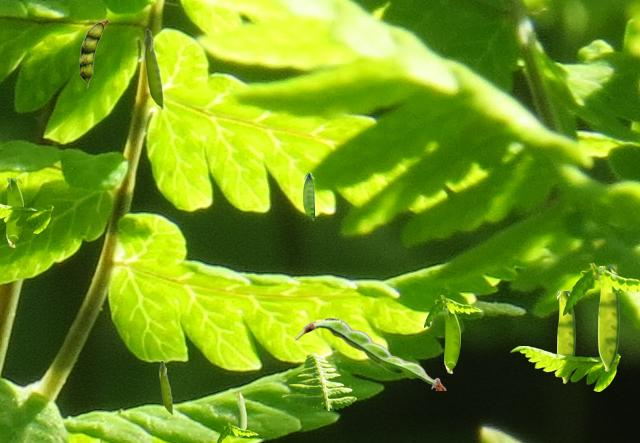pea: (294, 318, 445, 389), (598, 266, 618, 370), (79, 19, 107, 87), (143, 28, 163, 110), (557, 291, 574, 382), (6, 178, 22, 246), (444, 308, 459, 372), (159, 360, 172, 415), (303, 173, 313, 219), (235, 390, 245, 428)
